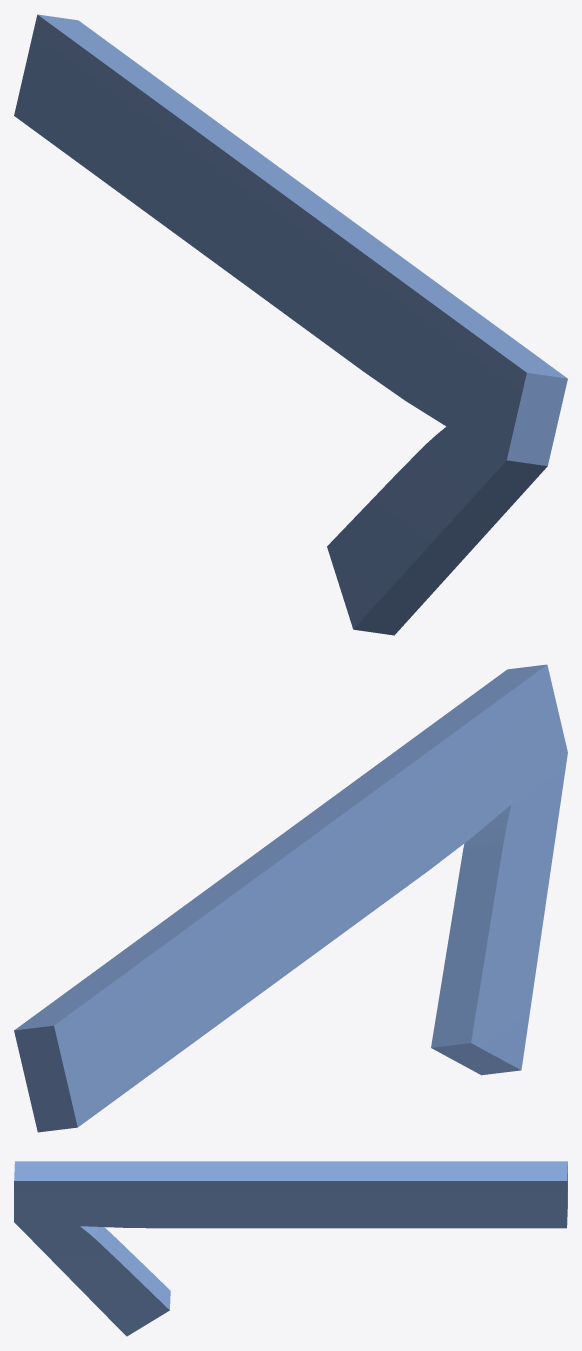
File: New_Number_1.gltf
3 renders of one model, top to bottom at view 1: azimuth 30°, elevation 25°; view 2: azimuth 150°, elevation 25°; view 3: azimuth 270°, elevation 25°, orthographic. The views are drawn at different scales.
Parts seen in each view (by area): view 1: Part 307; view 2: Part 307; view 3: Part 307.
Part boxes in pixels (bbox=[...]): Part 307: bbox=[14, 14, 567, 635]; Part 307: bbox=[14, 664, 567, 1132]; Part 307: bbox=[14, 1161, 567, 1336].
Bounding box in the file's own units: 0.00068 × 0.00186 × 0.00505.
